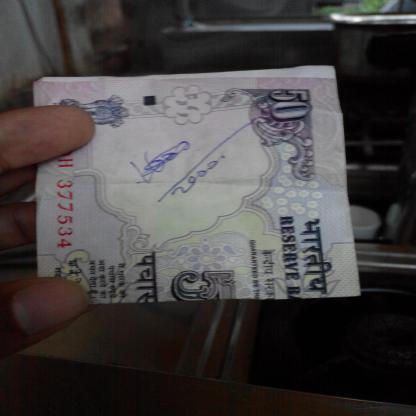Old50Front: (34, 64, 362, 306)
